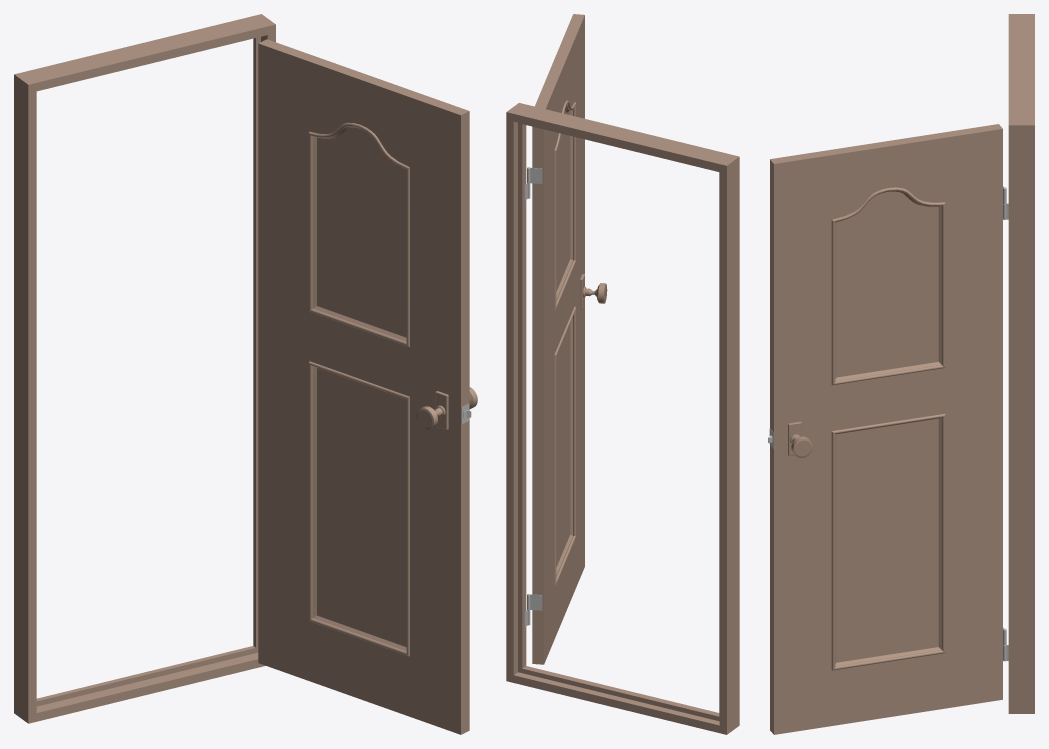
File: 147_室内ドア開.glb
The picture shows the model from 3 angles, left to right: view 1: azimuth 30°, elevation 25°; view 2: azimuth 150°, elevation 25°; view 3: azimuth 270°, elevation 25°; orthographic projection. The views are drawn at different scales.
Parts seen in each view (by area): view 1: 戸, ドア枠; view 2: ドア枠, 戸; view 3: 戸, ドア枠.
Part boxes in pixels (x1,y1,x2,y2): 戸: [258, 39, 477, 734]; ドア枠: [14, 14, 275, 723]; ドア枠: [506, 103, 739, 734]; 戸: [527, 14, 607, 664]; 戸: [768, 124, 1006, 734]; ドア枠: [1003, 14, 1034, 713].
Bounding box in the file's own units: 1.01 × 1.85 × 0.7596.
